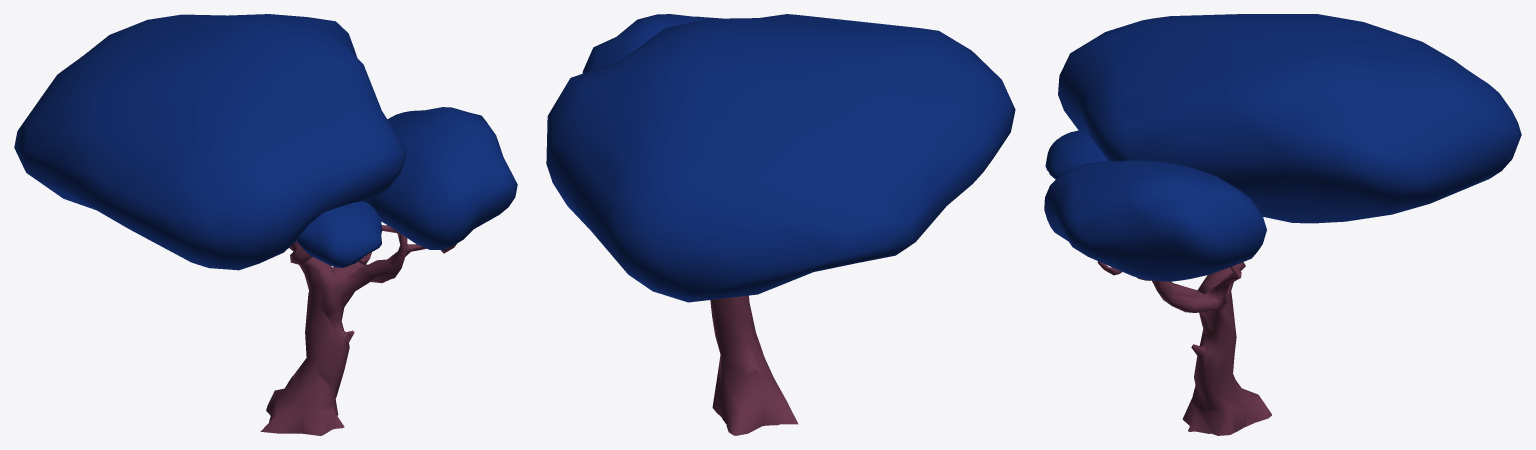
Rendered from tree 3.fbx.
The picture shows the model from 3 angles, left to right: view 1: azimuth 30°, elevation 25°; view 2: azimuth 150°, elevation 25°; view 3: azimuth 270°, elevation 25°; orthographic projection. The views are drawn at different scales.
Visible parts, largest first — view 1: tree_3; view 2: tree_3; view 3: tree_3.
Part boxes in pixels (box(x1,y1,x2,y2)): tree_3: box(14, 14, 517, 435); tree_3: box(546, 14, 1015, 435); tree_3: box(1044, 14, 1521, 435).
Size of the model in its own units: 9.45 by 10.26 by 8.61.
